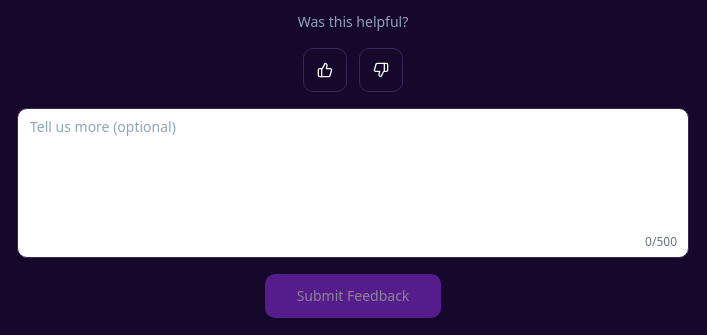
FeedbackButtons › should enable submit button when text is entered (without thumb selection)
Expected: the button "Submit Feedback" is disabled, [265,274,441,318]
Note: Type some text
Type "Some feedback" into the text box with placeholder "Tell us more (optional)" at (353, 183), box [17,108,689,258]
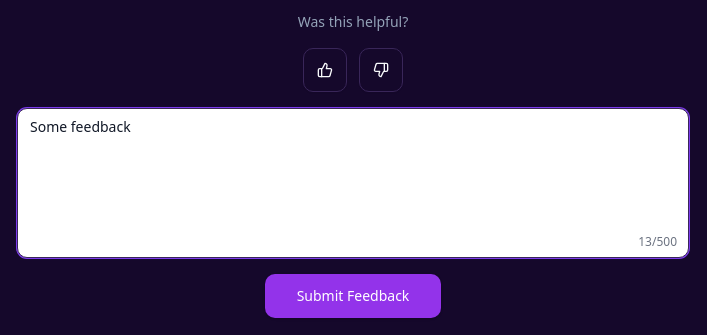
Result: the button "Submit Feedback" is enabled at [265,274,441,318]
